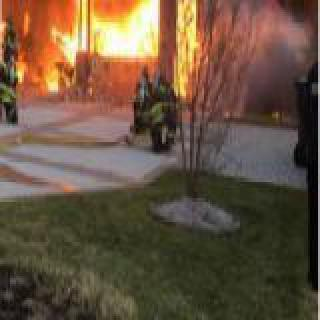fire: (72, 0, 196, 102), (38, 24, 72, 96), (16, 4, 34, 88), (0, 0, 4, 58)
